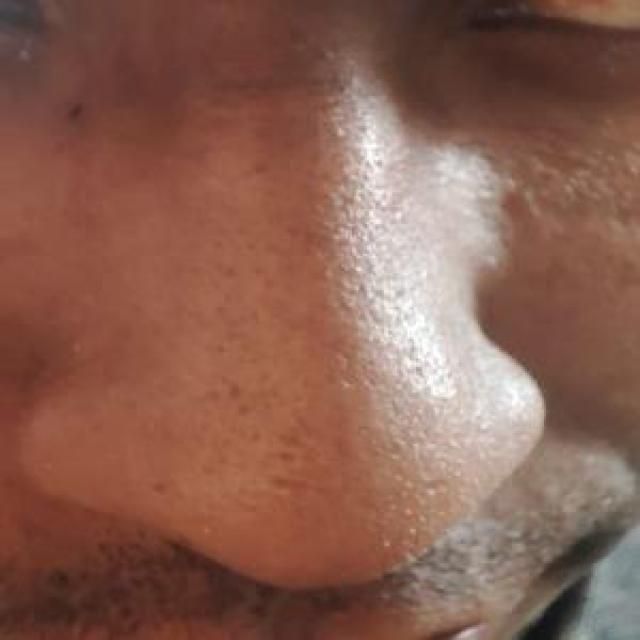Dry-Skin: (379, 38, 640, 276), (68, 0, 362, 172)
